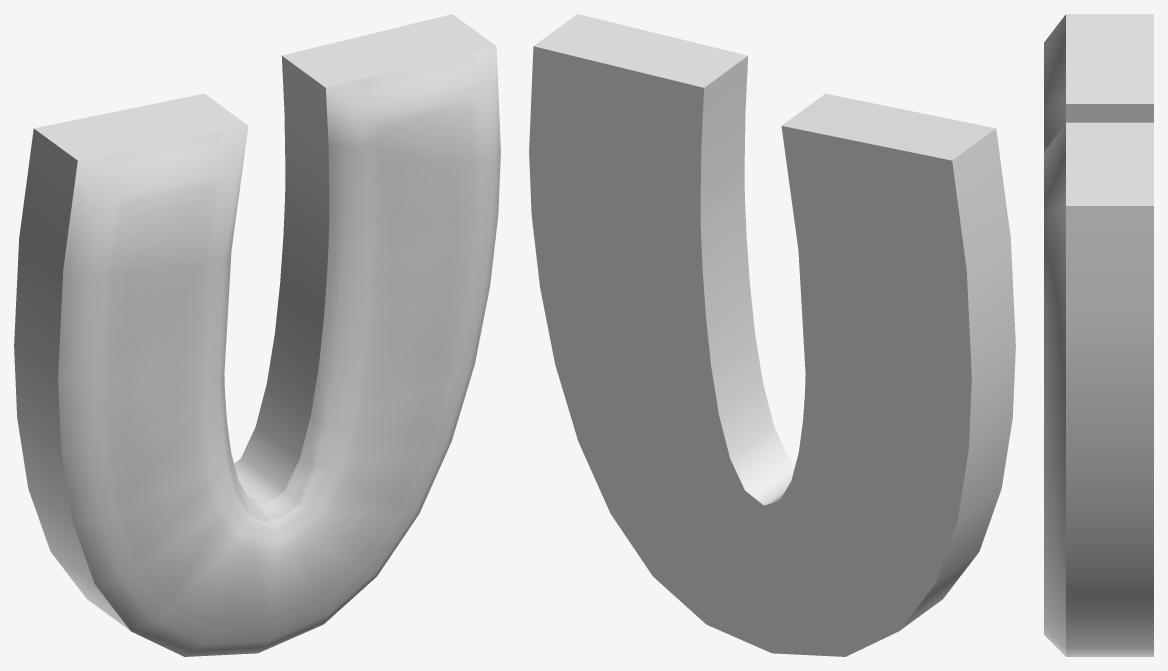
The model's file is LettersStylized01_U.FBX.
3 renders of one model, left to right at view 1: azimuth 30°, elevation 25°; view 2: azimuth 150°, elevation 25°; view 3: azimuth 270°, elevation 25°, orthographic.
Visible parts, largest first — view 1: LettersStylized01_U; view 2: LettersStylized01_U; view 3: LettersStylized01_U.
Part boxes in pixels (bbox=[...]): LettersStylized01_U: bbox=[14, 14, 500, 656]; LettersStylized01_U: bbox=[529, 14, 1015, 656]; LettersStylized01_U: bbox=[1044, 14, 1153, 656].
Size of what is drawn, in the model's own units: 0.3947 by 0.4675 by 0.085.
